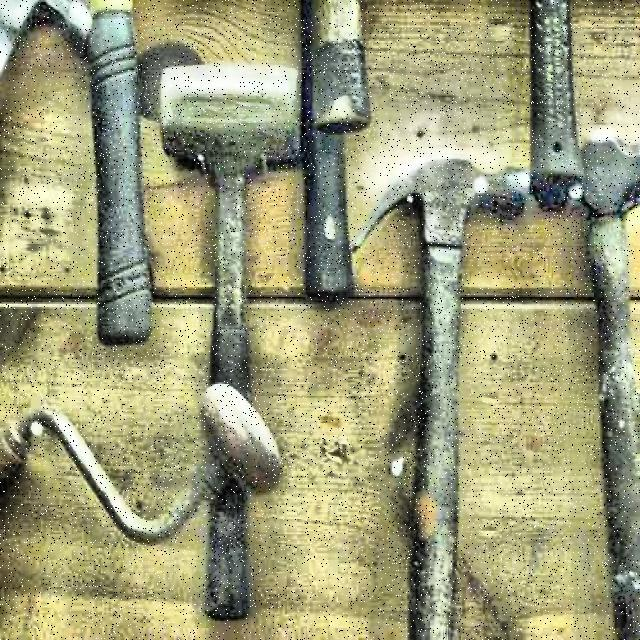hammer: (351, 155, 529, 640), (160, 57, 296, 624)
